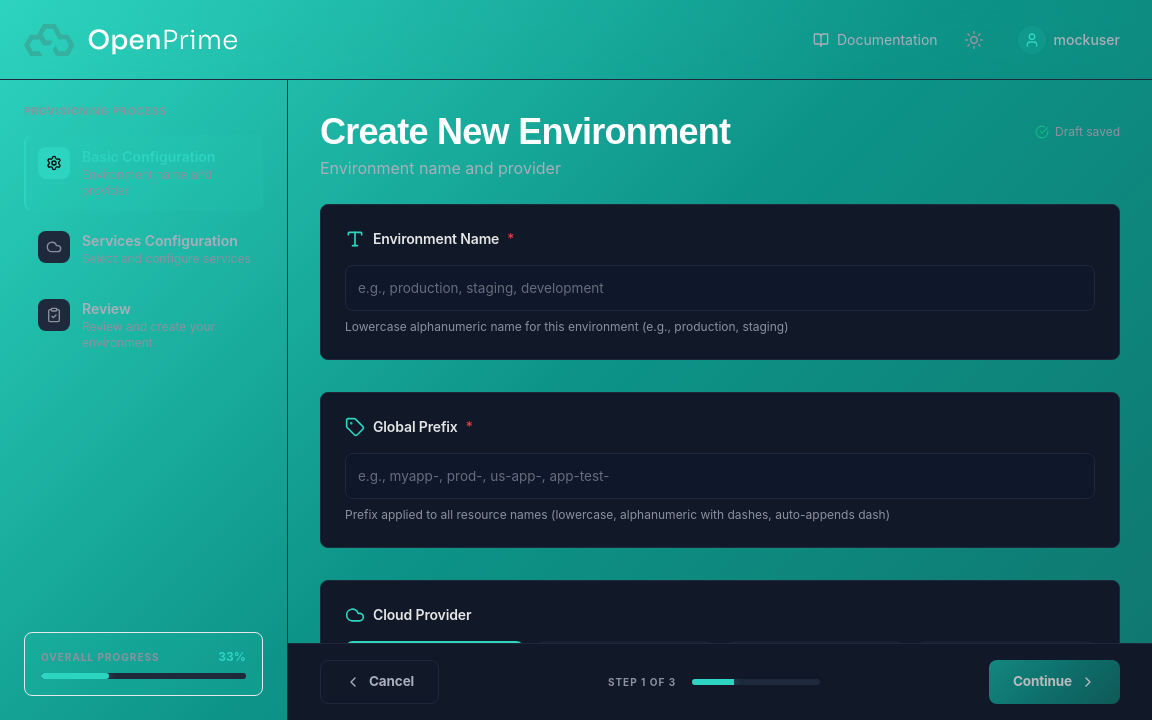
Test: WizardPage in the setup guide › goes to the new environment after Create, where the push step is
The image size is (1152, 720).
Type "guided" into the field with placeholder "e.g., production, staging, development" at (720, 288), box [345, 265, 1095, 311]
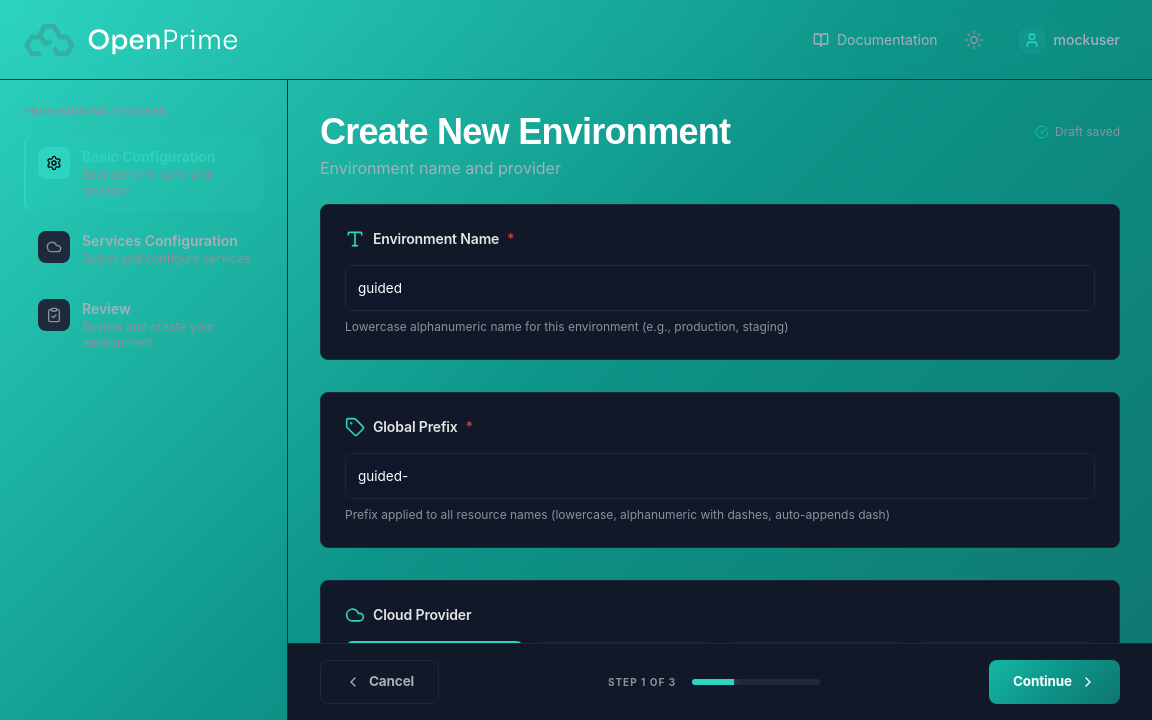
Click the button "Continue" at (1054, 682), box [989, 660, 1120, 704]
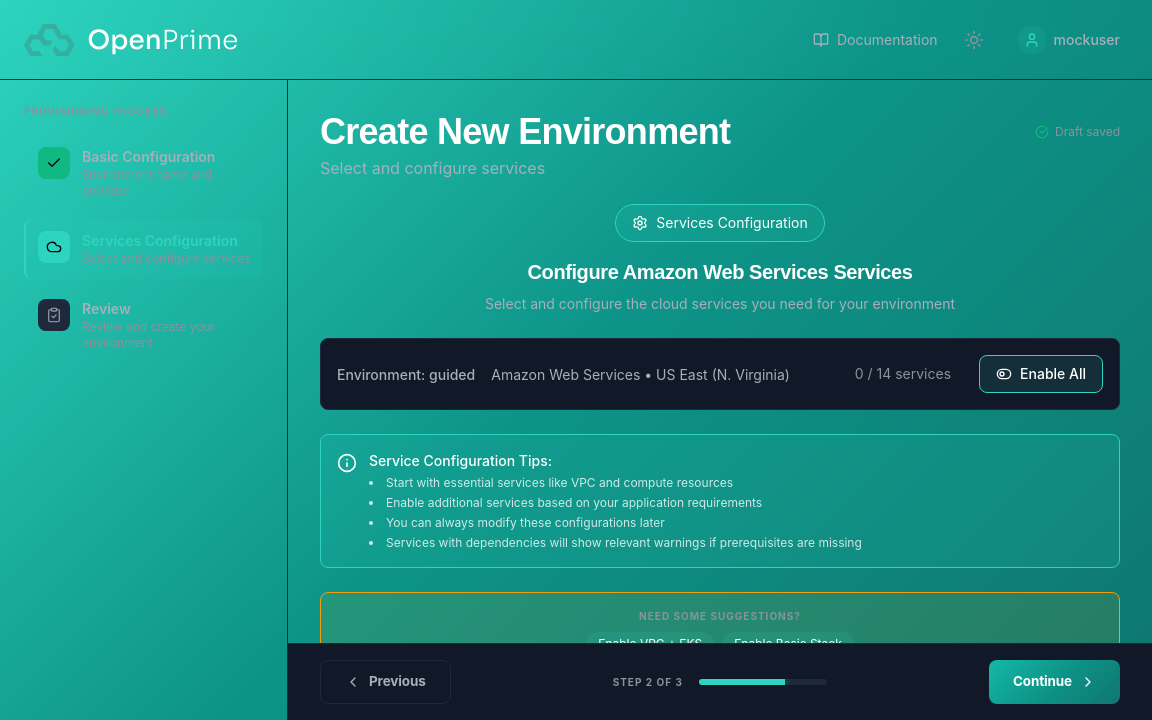
Click the button "Continue" at (1054, 682), box [989, 660, 1120, 704]
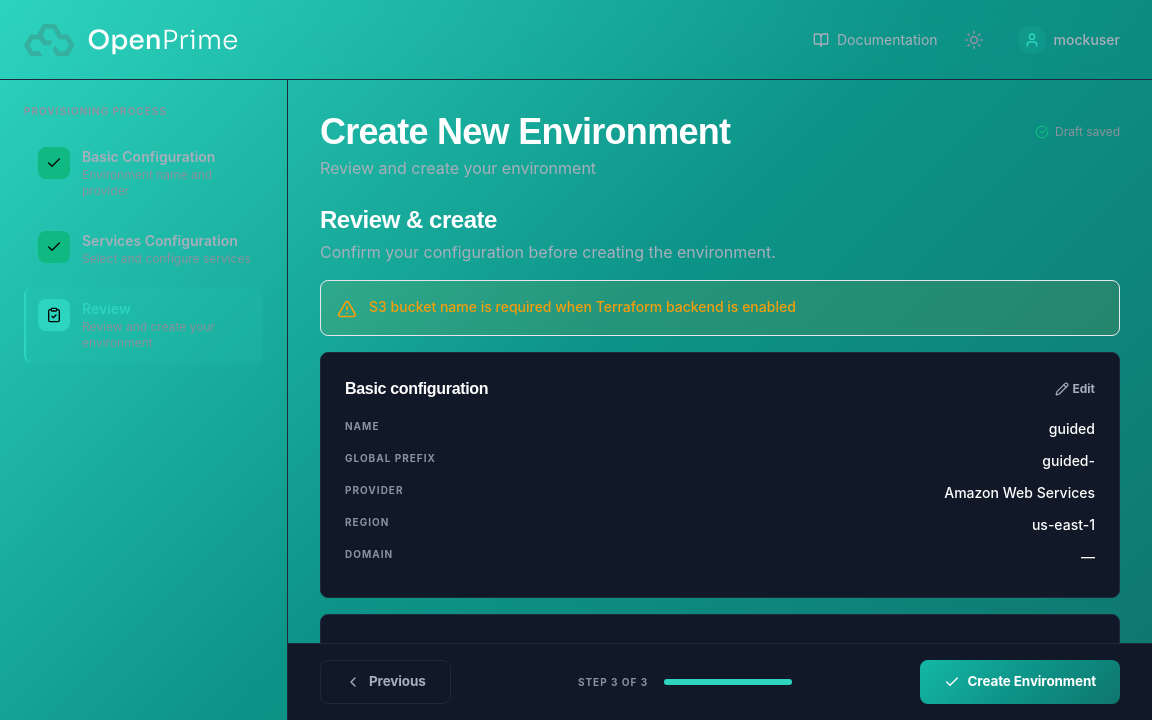
Click the button "Create Environment" at (1020, 682), box [920, 660, 1120, 704]
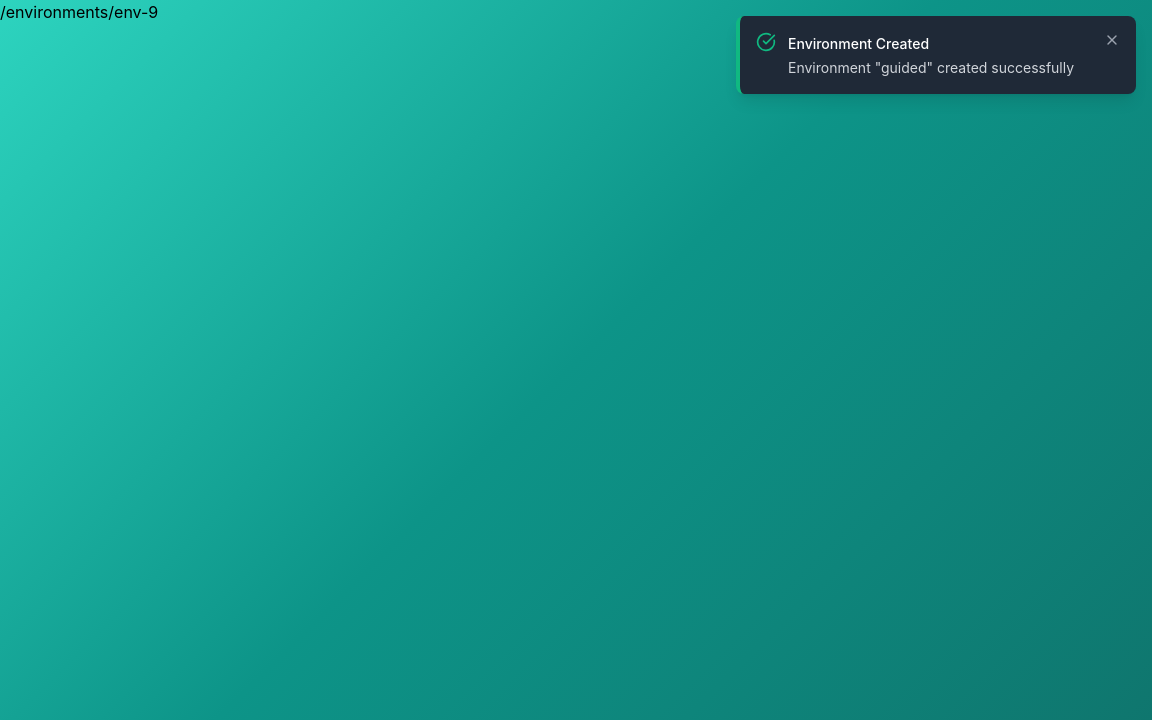
Expected: the text with test id "location" reads "/environments/env-9", [0, 2, 158, 22]
